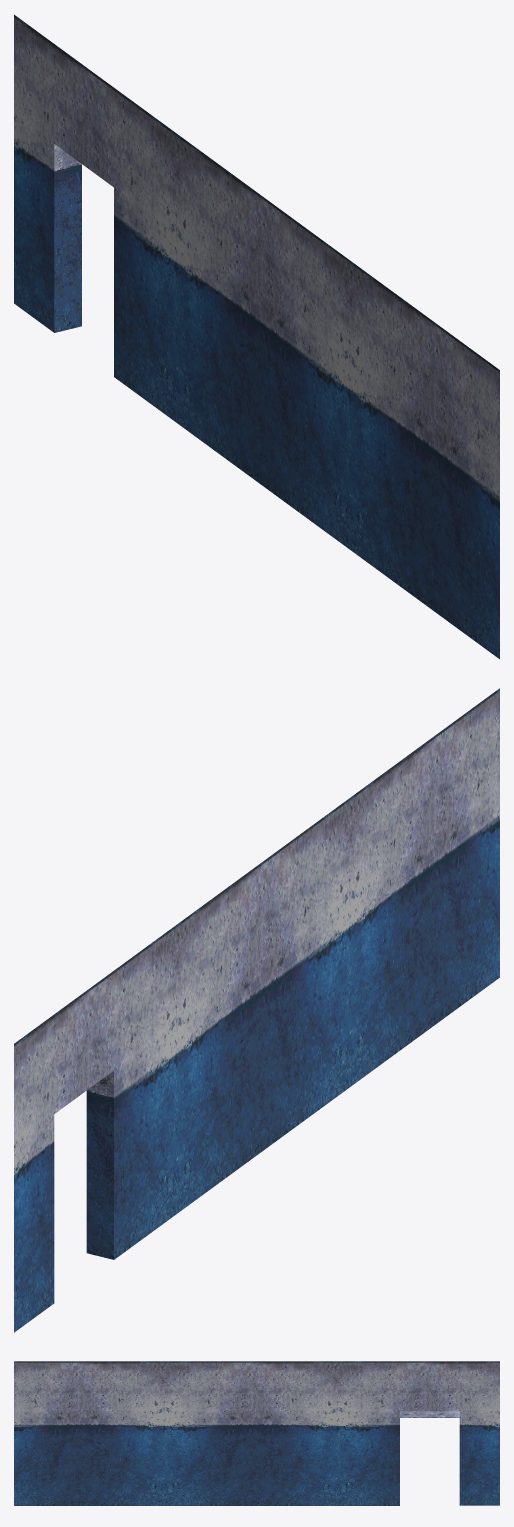
File: wall_right.fbx
3 views of the same model, one above another, from view 1: azimuth 30°, elevation 25°; view 2: azimuth 150°, elevation 25°; view 3: azimuth 270°, elevation 25° (orthographic). The views are drawn at different scales.
Visible parts, largest first — view 1: Cube.006; view 2: Cube.006; view 3: Cube.006.
Boxes of the visible parts, x1,y1,x2,y2 form: Cube.006: (14, 14, 499, 659); Cube.006: (14, 688, 499, 1332); Cube.006: (14, 1361, 499, 1505).
Bounding box in the file's own units: 40 × 403 × 1227.
